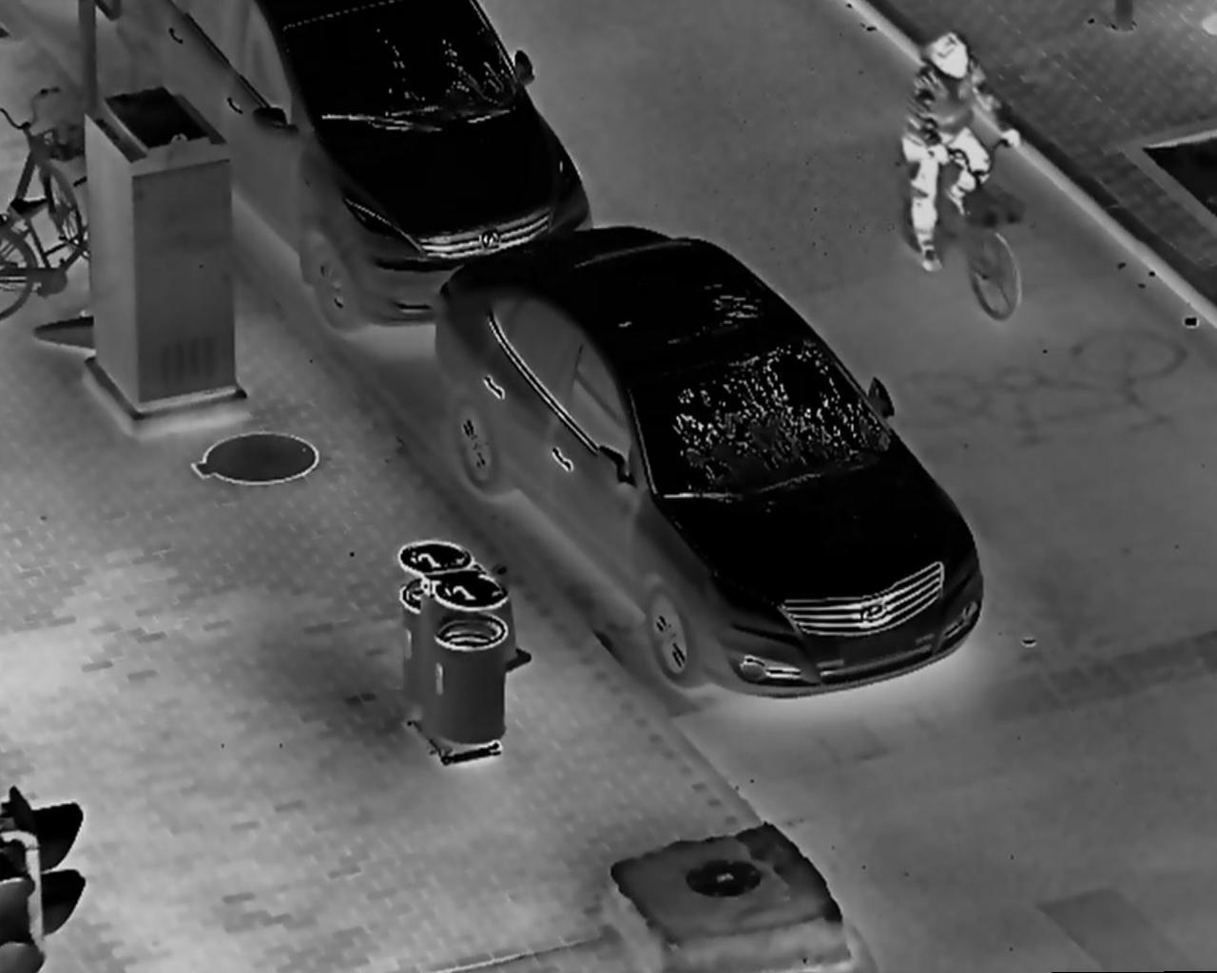person: (898, 25, 1026, 275)
